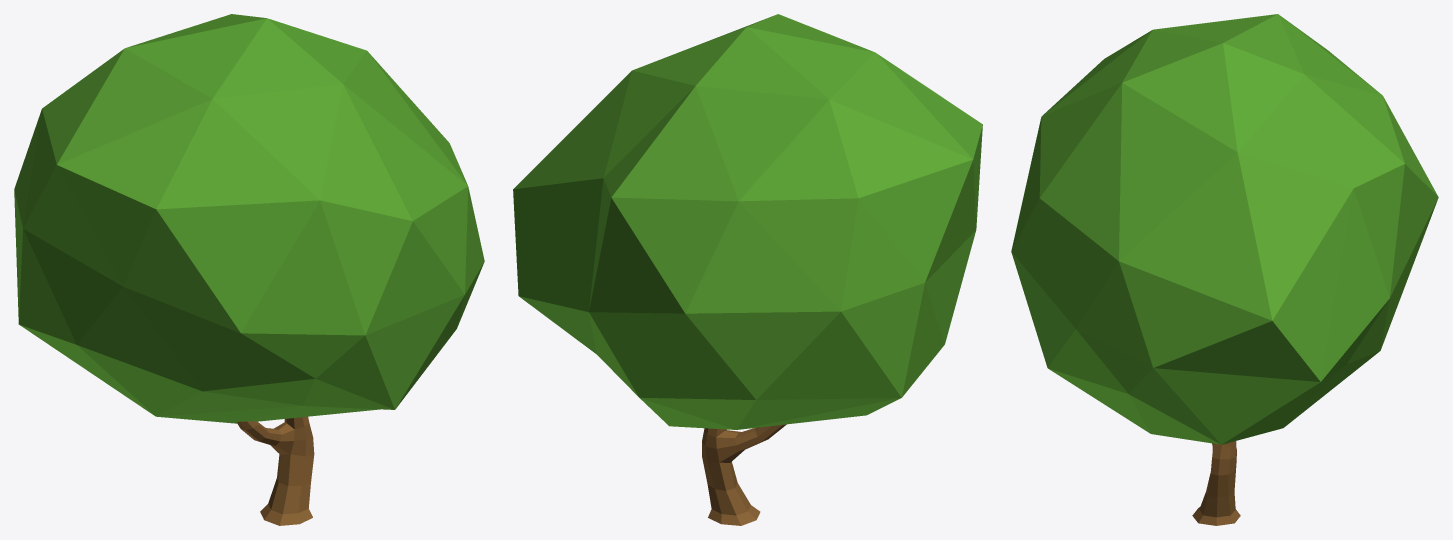
File: result.gltf
The picture shows the model from 3 angles, left to right: view 1: azimuth 30°, elevation 25°; view 2: azimuth 150°, elevation 25°; view 3: azimuth 270°, elevation 25°; orthographic projection. The views are drawn at different scales.
Visible parts, largest first — view 1: Bush_1; view 2: Bush_1; view 3: Bush_1.
Boxes of the visible parts, x1,y1,x2,y2 form: Bush_1: (14, 14, 484, 525); Bush_1: (513, 14, 982, 525); Bush_1: (1011, 14, 1438, 525).
Size of the model in its own units: 193 by 214 by 178.
